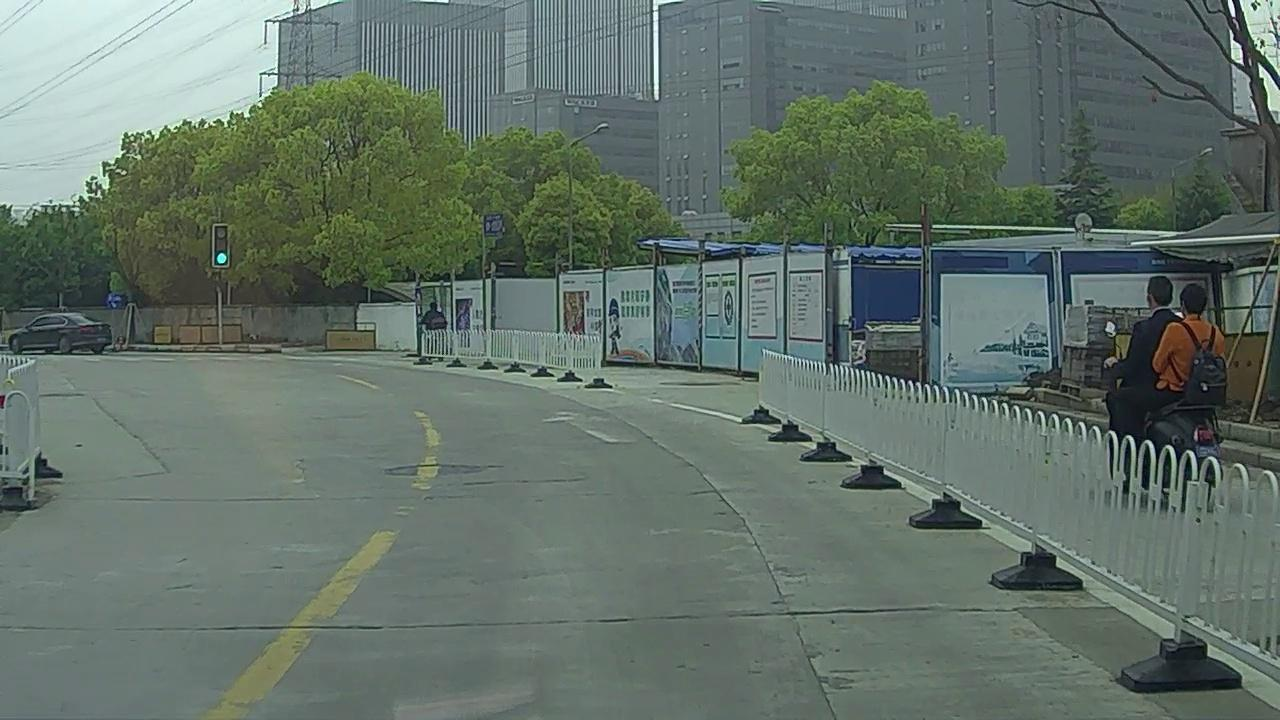traffic_light: (215, 226, 228, 265)
